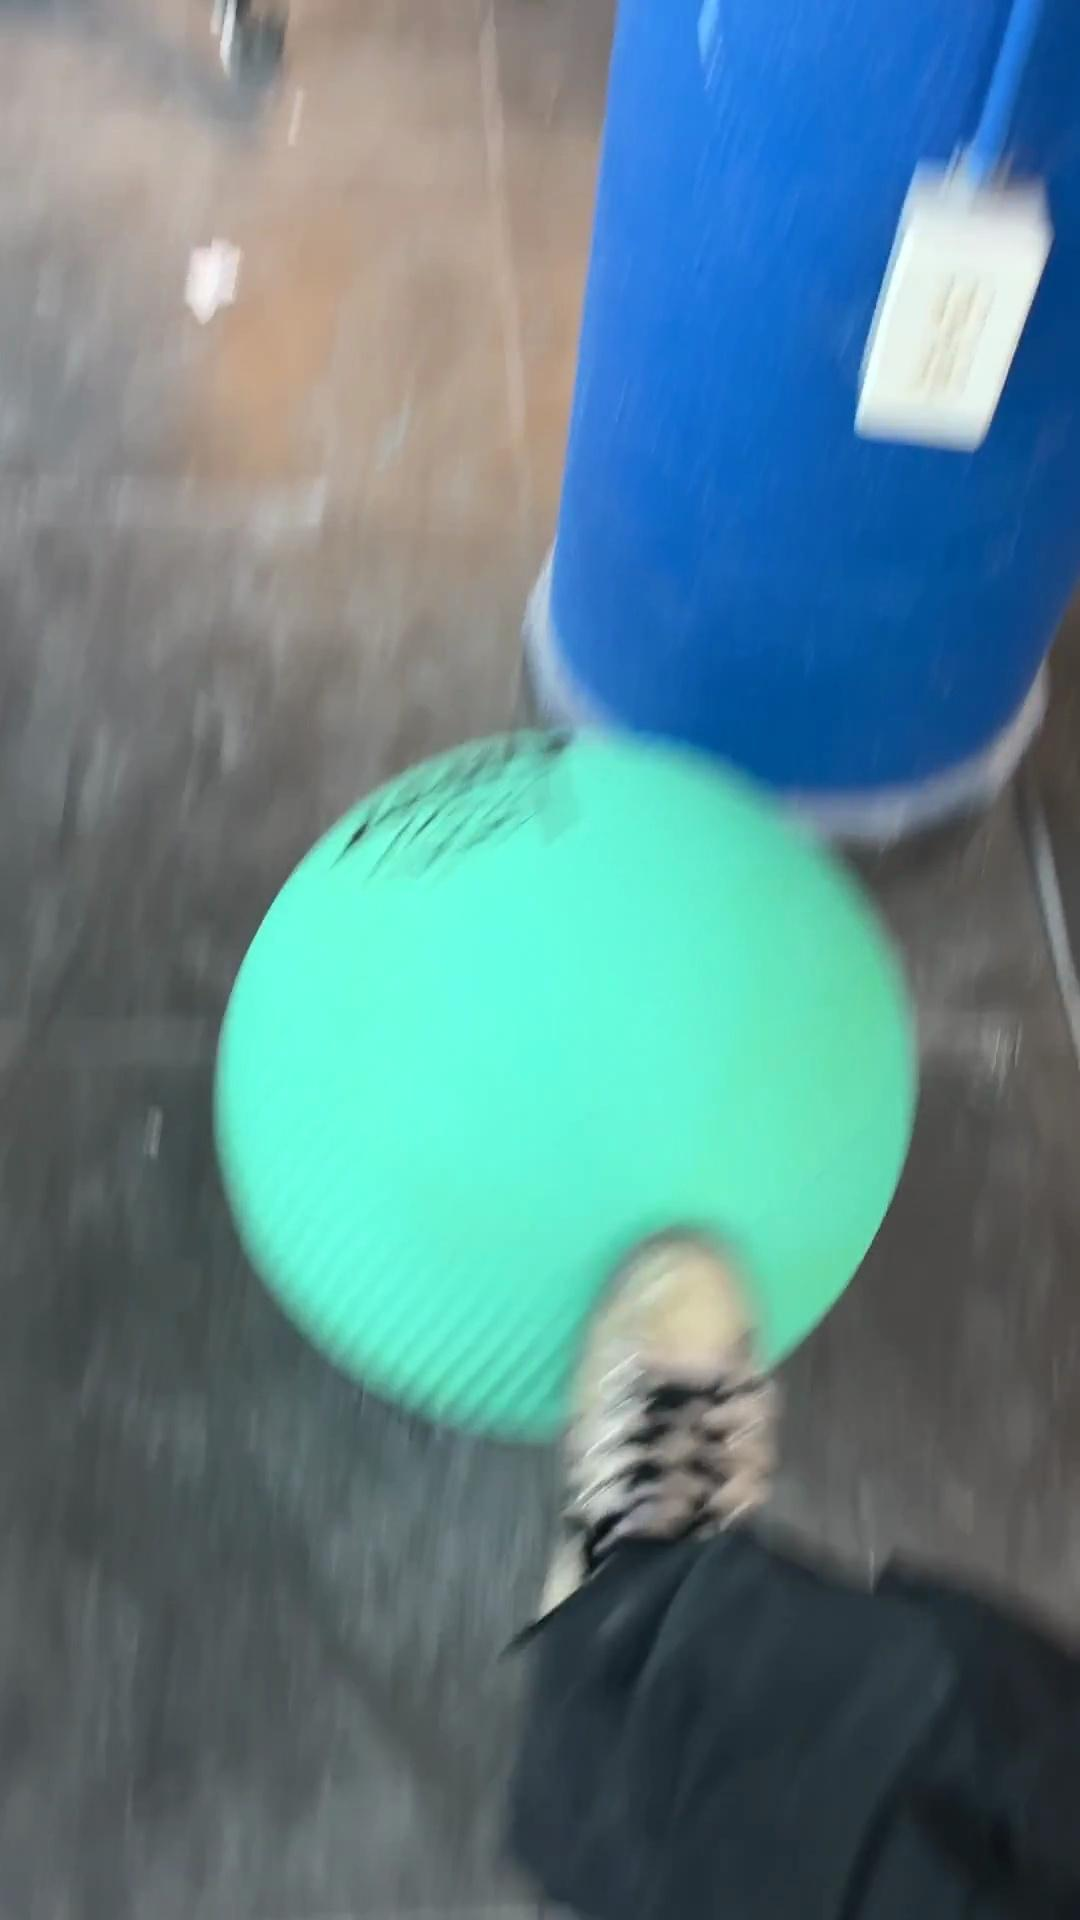ALGAE: (209, 722, 922, 1448)
